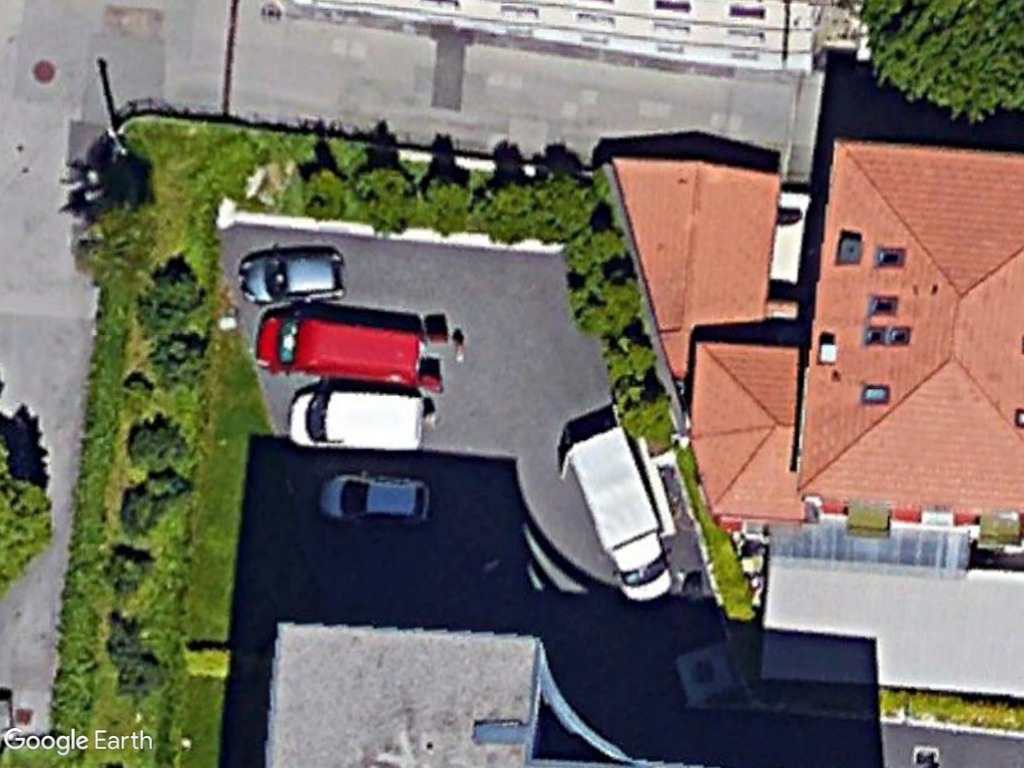car: (234, 241, 353, 306), (313, 470, 439, 530)
van: (251, 304, 437, 394), (281, 381, 431, 450)
